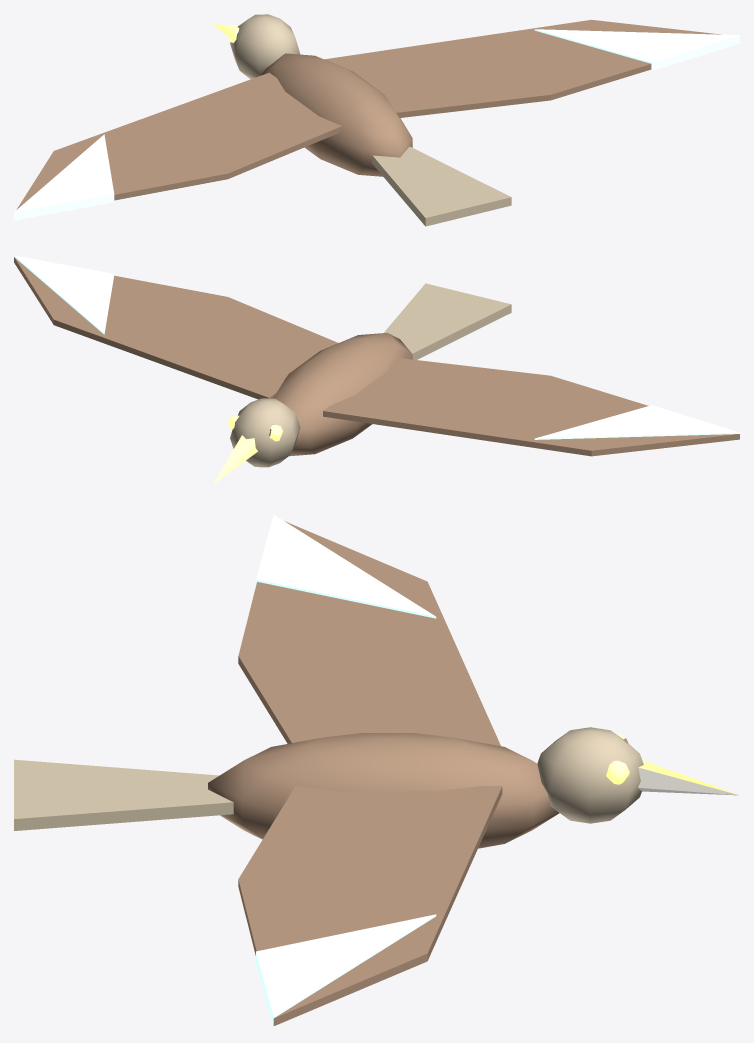
File: creature_flyer.glb
The picture shows the model from 3 angles, top to bottom: view 1: azimuth 30°, elevation 25°; view 2: azimuth 150°, elevation 25°; view 3: azimuth 270°, elevation 25°; orthographic projection. The views are drawn at different scales.
Parts seen in each view (by area): view 1: Creature_WingL, Creature_WingR, Creature_Body.001; view 2: Creature_WingL, Creature_WingR, Creature_Body.001; view 3: Creature_WingR, Creature_Body.001, Creature_WingL.
Part boxes in pixels (bbox=[...]): Creature_WingL: bbox=[14, 72, 341, 220]; Creature_WingR: bbox=[324, 19, 739, 117]; Creature_Body.001: bbox=[213, 14, 511, 226]; Creature_WingL: bbox=[323, 357, 739, 456]; Creature_WingR: bbox=[14, 255, 338, 399]; Creature_Body.001: bbox=[212, 283, 511, 485]; Creature_WingR: bbox=[238, 786, 502, 1027]; Creature_Body.001: bbox=[14, 727, 738, 848]; Creature_WingL: bbox=[238, 515, 500, 745].
Size of the model in its own units: 2.7 by 0.3 by 1.65.
